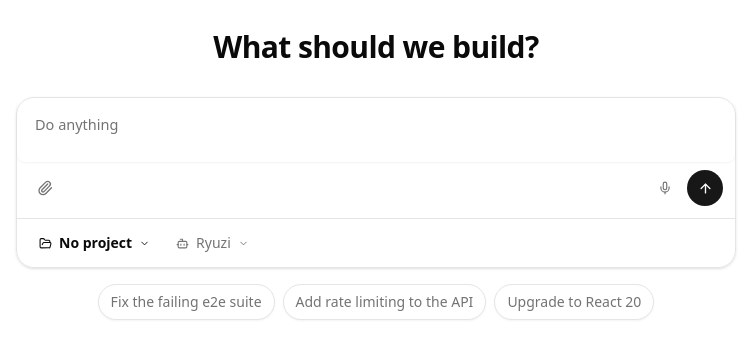
Test case: textarea Escape closes the agent mention popup
Type "@a" into the text box with placeholder "Do anything".
click(376, 130); type("@a")  # box left=17, top=98, right=735, bottom=162
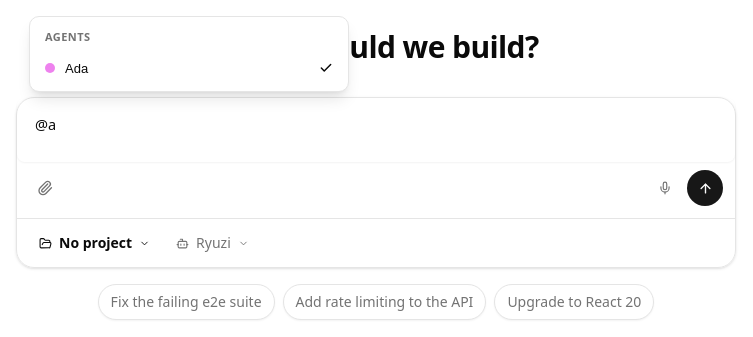
Expected: the menu is shown, left=35, top=22, right=343, bottom=86
Press Escape in the text box with placeholder "Do anything", box left=17, top=98, right=735, bottom=162
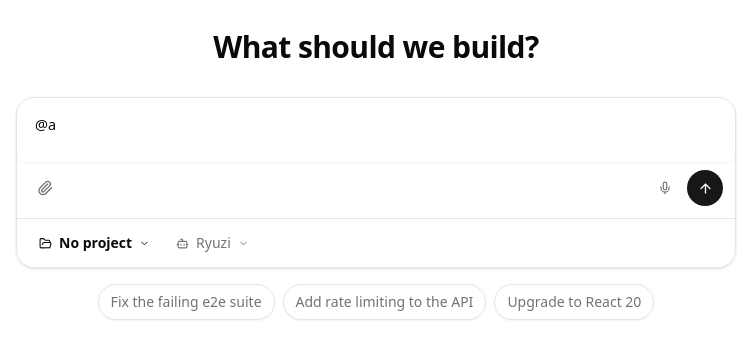
Expected: the menu is gone
